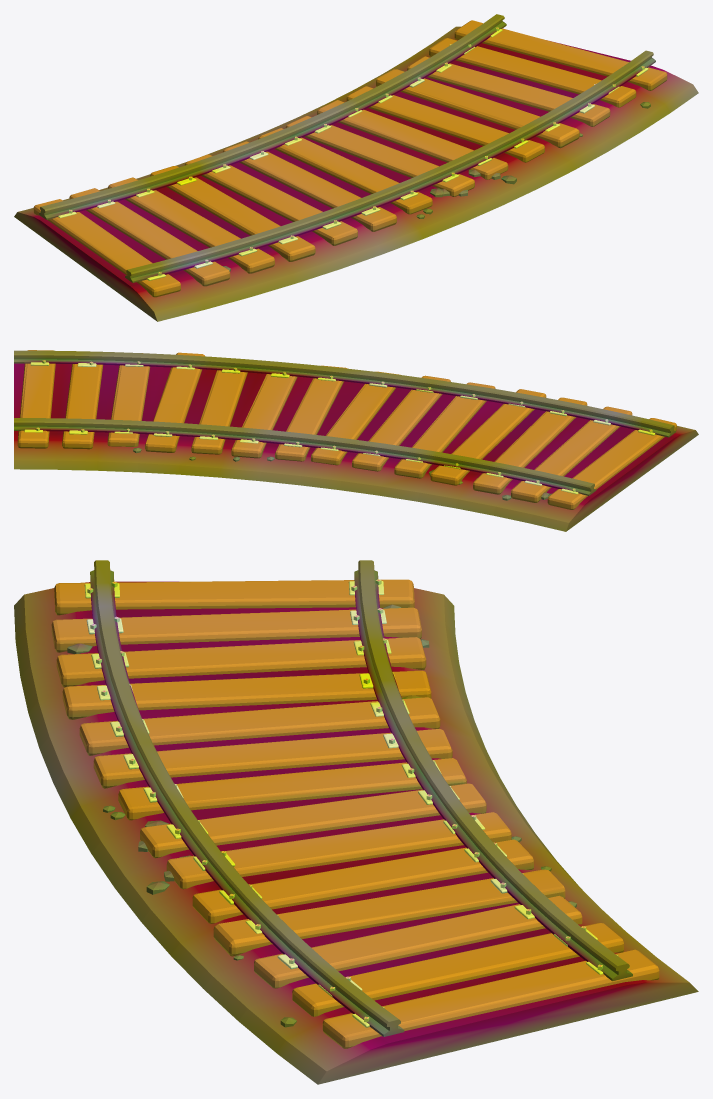
Rendered from Track_Curve_R20_30_B.fbx.
3 renders of one model, top to bottom at view 1: azimuth 30°, elevation 25°; view 2: azimuth 150°, elevation 25°; view 3: azimuth 270°, elevation 25°, orthographic. The views are drawn at different scales.
Parts seen in each view (by area): view 1: Track_Curve_R20_30_B; view 2: Track_Curve_R20_30_B; view 3: Track_Curve_R20_30_B.
Boxes of the visible parts, x1,y1,x2,y2 form: Track_Curve_R20_30_B: [14, 14, 698, 321]; Track_Curve_R20_30_B: [14, 350, 698, 531]; Track_Curve_R20_30_B: [14, 560, 698, 1084].
Bounding box in the file's own units: 11.07 × 0.49 × 6.69.
